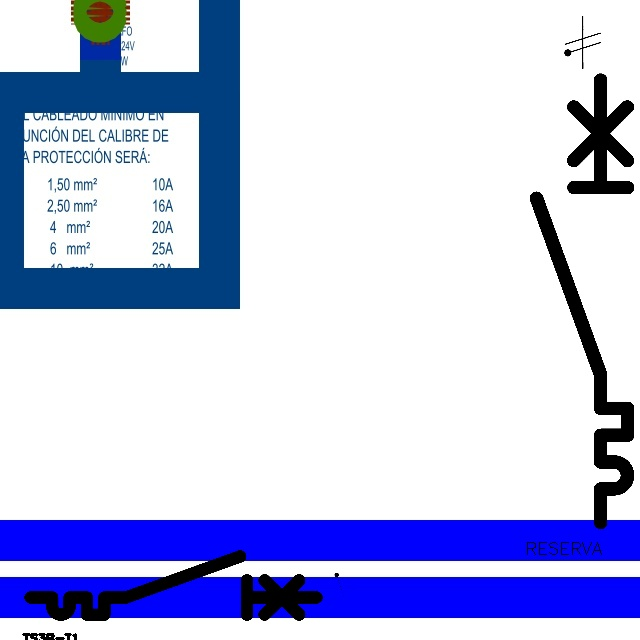interruptor_termomagnetico: (525, 68, 639, 533), (23, 549, 324, 622)
